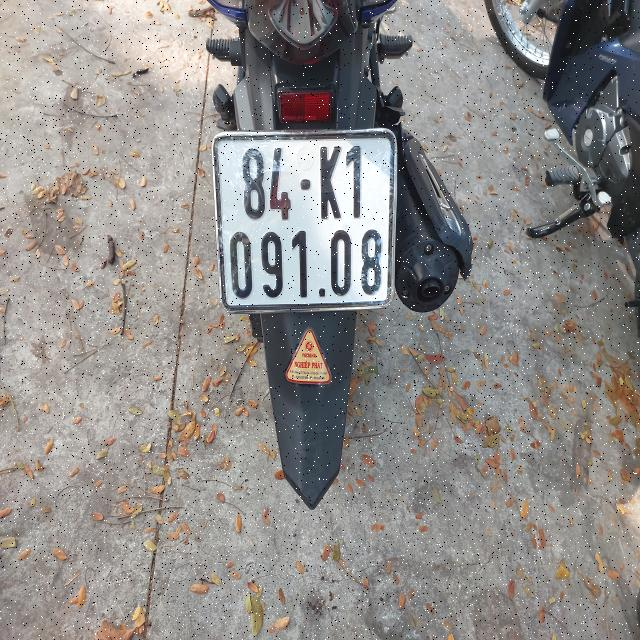0: (229, 234, 257, 301), (329, 230, 354, 298)
1: (345, 142, 366, 220), (290, 228, 311, 298)
4: (269, 147, 294, 221)
8: (240, 146, 266, 221), (360, 227, 383, 296)
9: (260, 230, 284, 299)
K: (320, 143, 343, 221)
